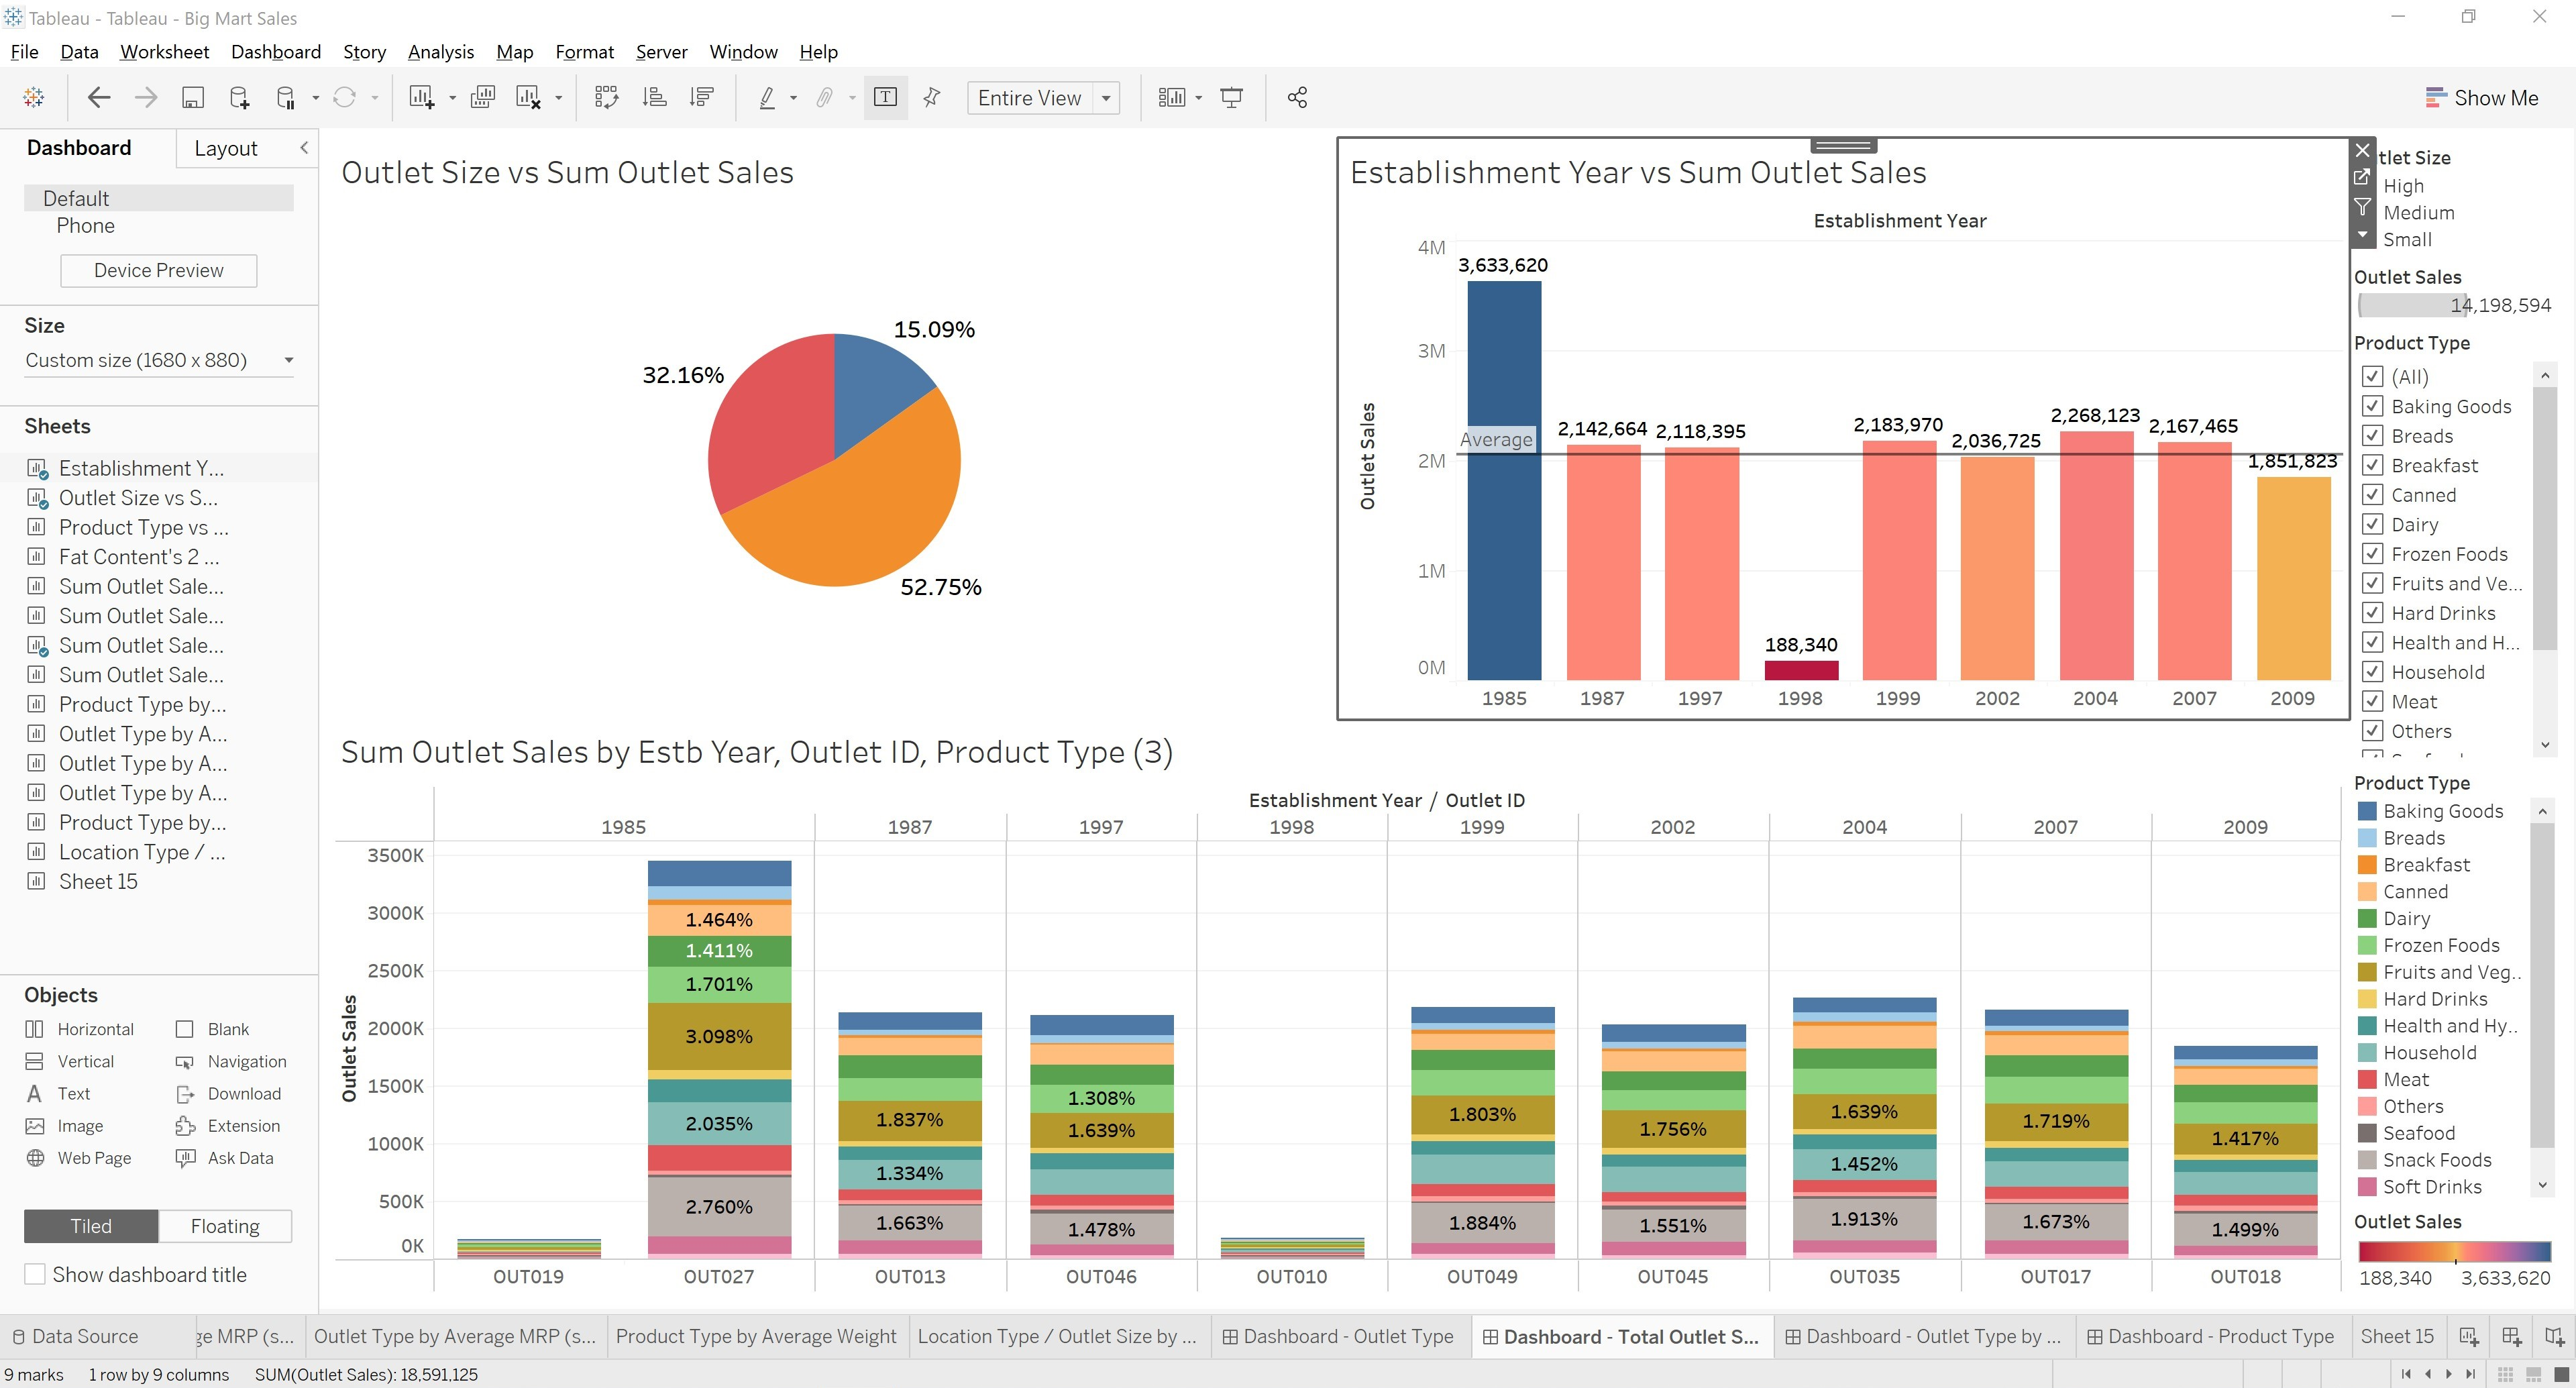

This screenshot's page, from the dashboard's own definition file:
{"tool":"tableau","page":{"name":"Dashboard - Total Outlet Sales","canvas":[1680,880],"ordinal":3},"visuals":[{"type":"worksheet","title":"Outlet Size vs Sum Outlet Sales","mark":"Pie","box":[8,8,751.9,432]},{"type":"worksheet","title":"Establishment Year vs Sum Outlet Sales","mark":"Automatic","rows":["OutletSales"],"cols":["EstablishmentYear"],"box":[759.9,8,752.1,432]},{"type":"legend","title":"Outlet Size vs Sum Outlet Sales","param":"[federated.04nvx7g1tpnqz512rx5cq09d1qcu].[none:OutletSize:nk]","box":[1512,8,160,89]},{"type":"legend","title":"Outlet Size vs Sum Outlet Sales","param":"[federated.04nvx7g1tpnqz512rx5cq09d1qcu].[sum:OutletSales:qk]","box":[1512,97,160,49]},{"type":"filter","title":"Sum Outlet Sales by Estb Year, Outlet ID, Product Type (3)","param":"[federated.04nvx7g1tpnqz512rx5cq09d1qcu].[none:ProductType:nk]","box":[1512,146,160,327.5]},{"type":"worksheet","title":"Sum Outlet Sales by Estb Year, Outlet ID, Product Type (3)","mark":"Automatic","rows":["OutletSales"],"cols":["EstablishmentYear","OutletID"],"box":[8,440,1504,432]},{"type":"legend","title":"Sum Outlet Sales by Estb Year, Outlet ID, Product Type (3)","param":"[federated.04nvx7g1tpnqz512rx5cq09d1qcu].[none:ProductType:nk]","box":[1512,473.5,160,327.5]},{"type":"legend","title":"Establishment Year vs Sum Outlet Sales","param":"[federated.04nvx7g1tpnqz512rx5cq09d1qcu].[sum:OutletSales:qk]","box":[1512,801,160,71]}]}

Visuals, with their boxes on the page's 1680x880 design canvas (x1, y1, x2, y2). These are canvas units, not pixel positions in the 2576x1388 screenshot, which may show the page scaled, cropped or inside an application window:
"Outlet Size vs Sum Outlet Sales" worksheet (Pie marks): pyautogui.locateOnScreen(8, 8, 760, 440)
"Establishment Year vs Sum Outlet Sales" worksheet: pyautogui.locateOnScreen(760, 8, 1512, 440)
"Outlet Size vs Sum Outlet Sales" legend: pyautogui.locateOnScreen(1512, 8, 1672, 97)
"Outlet Size vs Sum Outlet Sales" legend: pyautogui.locateOnScreen(1512, 97, 1672, 146)
"Sum Outlet Sales by Estb Year, Outlet ID, Product Type (3)" filter: pyautogui.locateOnScreen(1512, 146, 1672, 474)
"Sum Outlet Sales by Estb Year, Outlet ID, Product Type (3)" worksheet: pyautogui.locateOnScreen(8, 440, 1512, 872)
"Sum Outlet Sales by Estb Year, Outlet ID, Product Type (3)" legend: pyautogui.locateOnScreen(1512, 474, 1672, 801)
"Establishment Year vs Sum Outlet Sales" legend: pyautogui.locateOnScreen(1512, 801, 1672, 872)
